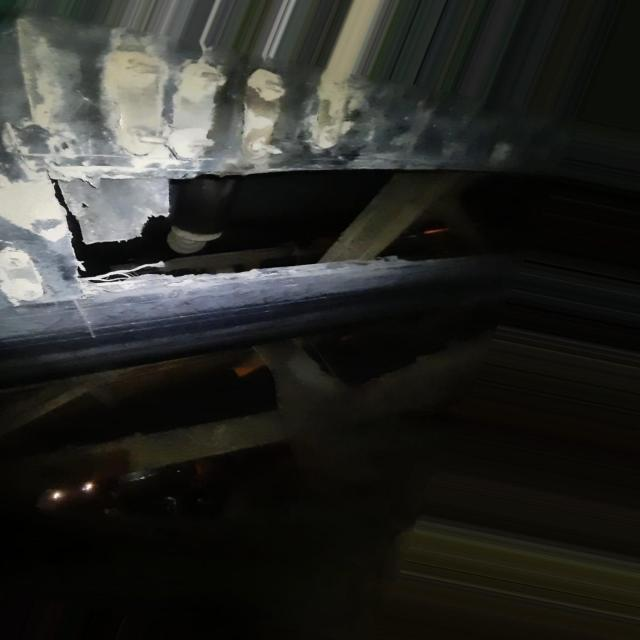Hole: (57, 170, 501, 286)
